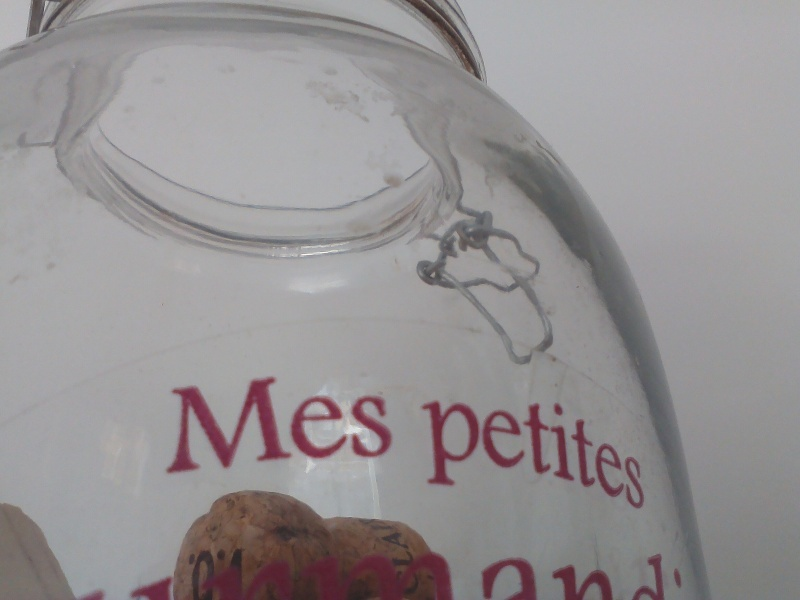text: (433, 368, 448, 512), (449, 368, 464, 512), (465, 368, 480, 512), (481, 368, 496, 512), (497, 368, 512, 512), (513, 368, 528, 512), (529, 368, 544, 512), (545, 368, 560, 512), (561, 368, 576, 512), (577, 368, 592, 512), (593, 368, 608, 512), (609, 368, 624, 512), (625, 368, 640, 512), (177, 360, 192, 476), (193, 360, 208, 476), (209, 360, 224, 476), (225, 360, 240, 476), (241, 360, 256, 476), (257, 360, 272, 476), (273, 360, 288, 476), (289, 360, 304, 476), (305, 360, 320, 476), (321, 360, 336, 476), (337, 360, 352, 476), (353, 360, 368, 476), (369, 360, 384, 476), (420, 368, 432, 512), (385, 360, 399, 476), (401, 517, 416, 594), (417, 517, 432, 594), (193, 549, 208, 599), (209, 549, 224, 599), (225, 549, 240, 599), (641, 368, 646, 512), (481, 553, 496, 600), (497, 553, 512, 600), (513, 553, 528, 600), (529, 553, 544, 600), (545, 553, 560, 600), (561, 553, 576, 600), (577, 553, 592, 600), (593, 553, 608, 600), (609, 553, 624, 600), (625, 553, 640, 600), (641, 553, 656, 600), (657, 553, 672, 600), (257, 552, 272, 599), (273, 552, 288, 599), (289, 552, 304, 599), (305, 552, 320, 599), (321, 552, 336, 599), (337, 552, 352, 599), (353, 552, 368, 599), (369, 552, 384, 599), (385, 552, 400, 599), (401, 552, 416, 599), (417, 552, 432, 599), (433, 552, 448, 599), (673, 553, 685, 600), (172, 360, 176, 476), (185, 549, 192, 599), (449, 552, 455, 599), (241, 549, 246, 599), (252, 552, 256, 599), (433, 517, 434, 594), (479, 553, 480, 600)
